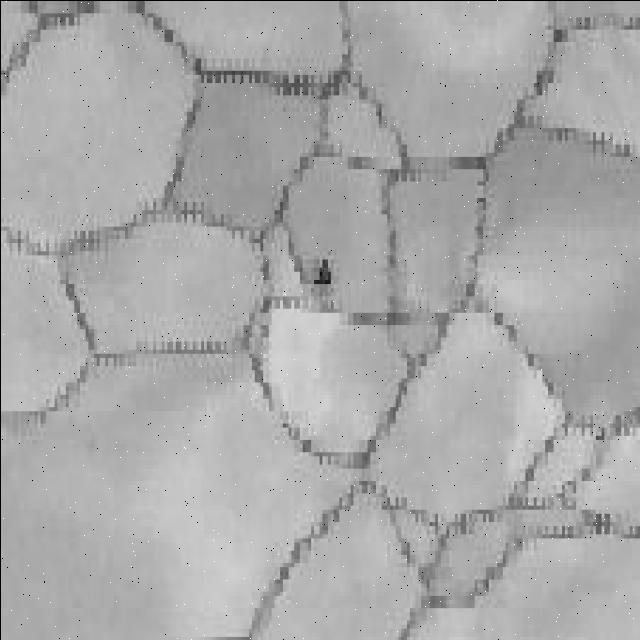good_void: (309, 256, 332, 291)
